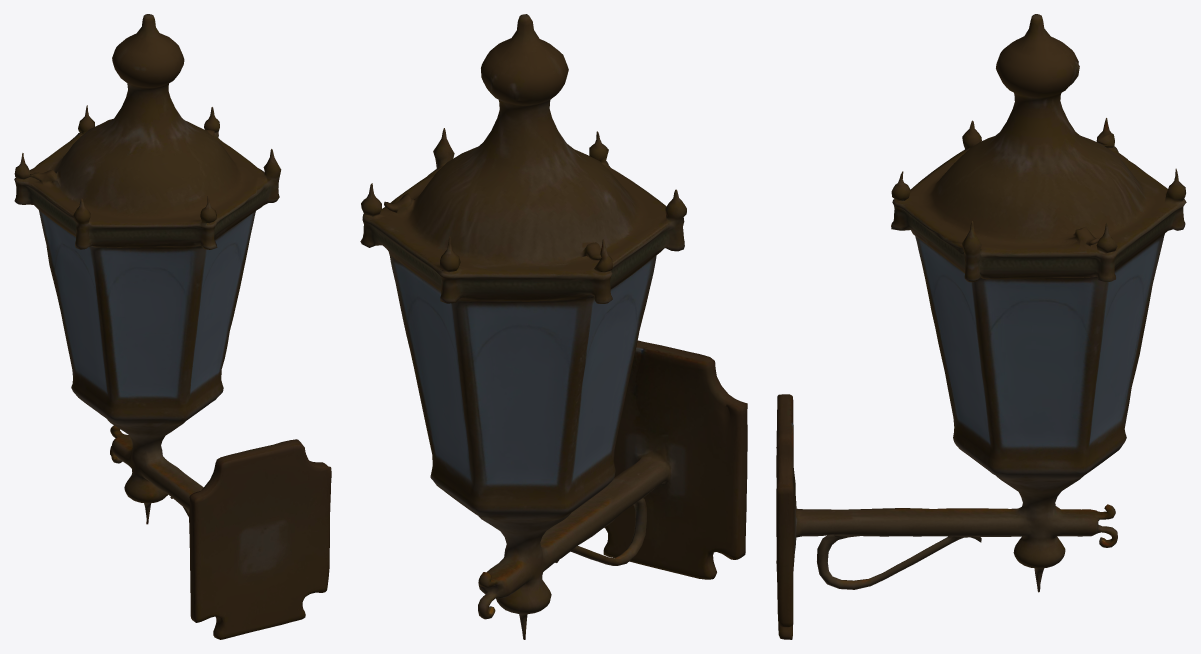
Rendered from linterna.fbx.
3 views of the same model, side by side, from view 1: azimuth 30°, elevation 25°; view 2: azimuth 150°, elevation 25°; view 3: azimuth 270°, elevation 25° (orthographic). The views are drawn at different scales.
Parts seen in each view (by area): view 1: tripo_node_f2b3d9f4; view 2: tripo_node_f2b3d9f4; view 3: tripo_node_f2b3d9f4.
Part boxes in pixels (bbox=[...]): tripo_node_f2b3d9f4: bbox=[14, 14, 331, 639]; tripo_node_f2b3d9f4: bbox=[360, 14, 747, 639]; tripo_node_f2b3d9f4: bbox=[776, 14, 1186, 639].
Size of the model in its own units: 0.4047 by 1 by 0.6186.
1 material, 1 textured.
